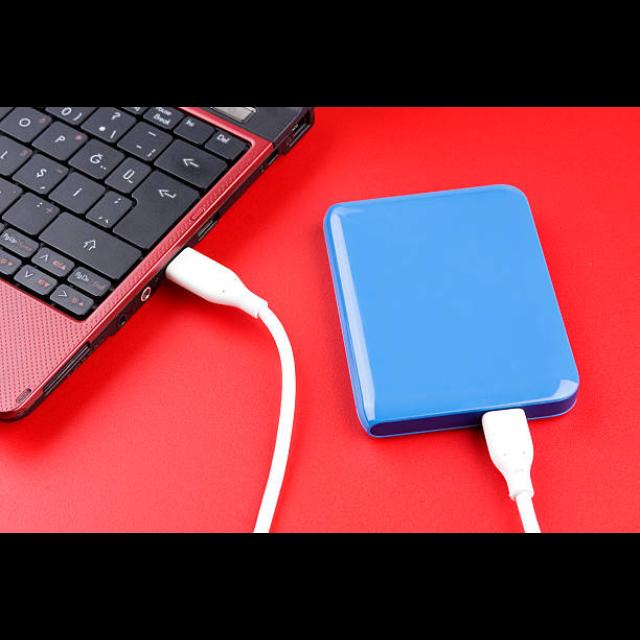HDD: (322, 184, 580, 441)
